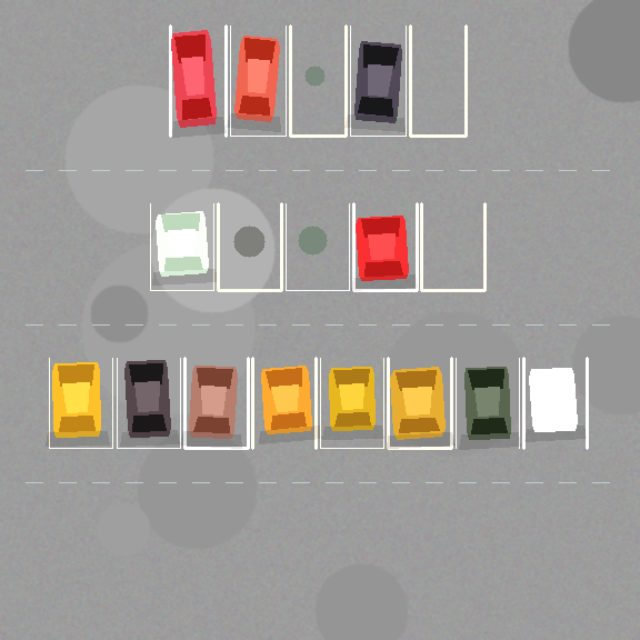space-empty: (290, 26, 346, 136), (410, 26, 466, 136), (218, 203, 281, 290), (286, 203, 349, 290), (421, 203, 484, 290)
space-occupied: (170, 26, 226, 136), (230, 26, 286, 136), (350, 26, 406, 136), (184, 358, 248, 448), (252, 358, 316, 448), (523, 358, 587, 448), (49, 358, 112, 448), (117, 358, 180, 448), (320, 358, 383, 448), (388, 358, 451, 448), (456, 358, 519, 448), (353, 203, 417, 290), (150, 203, 213, 290)
